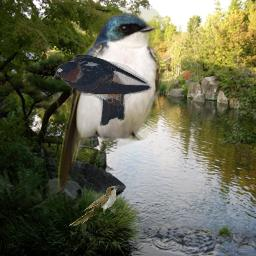Cuckoo: (69, 185, 120, 226)
Swallow: (58, 6, 165, 193), (54, 53, 152, 126)
